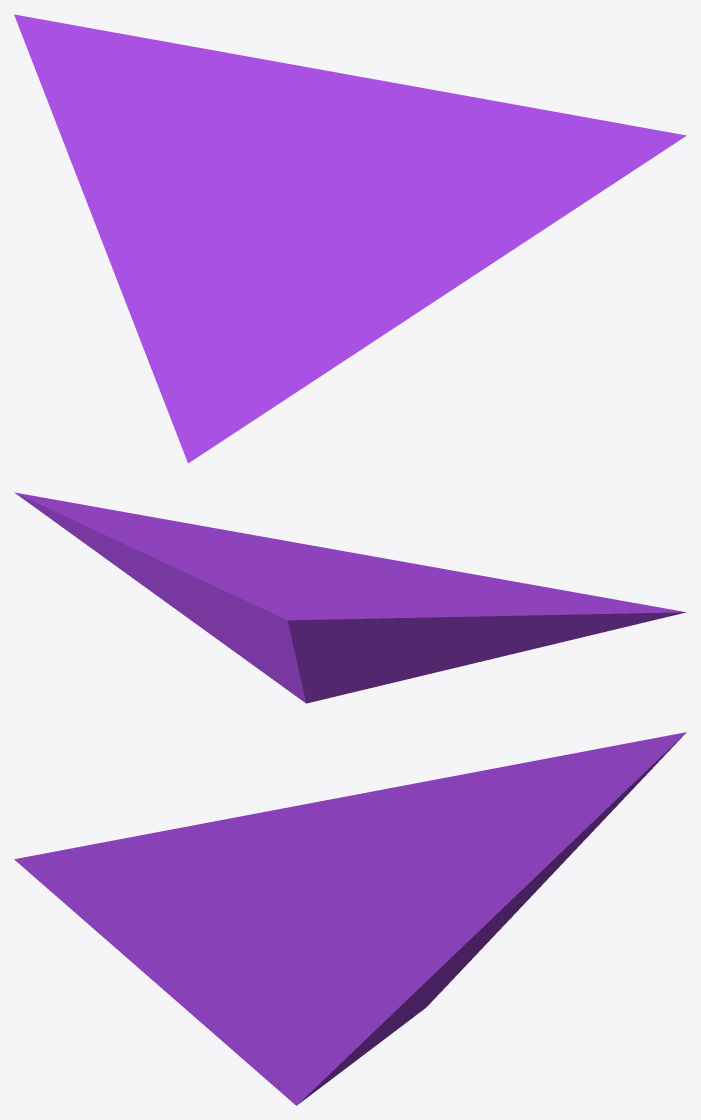
The model's file is Window_158_6_chunks.fbx.
3 views of the same model, one above another, from view 1: azimuth 30°, elevation 25°; view 2: azimuth 150°, elevation 25°; view 3: azimuth 270°, elevation 25° (orthographic). The views are drawn at different scales.
Parts seen in each view (by area): view 1: Window_158_6_0; view 2: Window_158_6_0; view 3: Window_158_6_0.
Boxes of the visible parts, box(x1,y1,x2,y2) form: Window_158_6_0: box(14, 14, 686, 463); Window_158_6_0: box(14, 492, 685, 703); Window_158_6_0: box(14, 732, 686, 1105).
Size of the model in its own units: 269 by 84.5 by 231.
